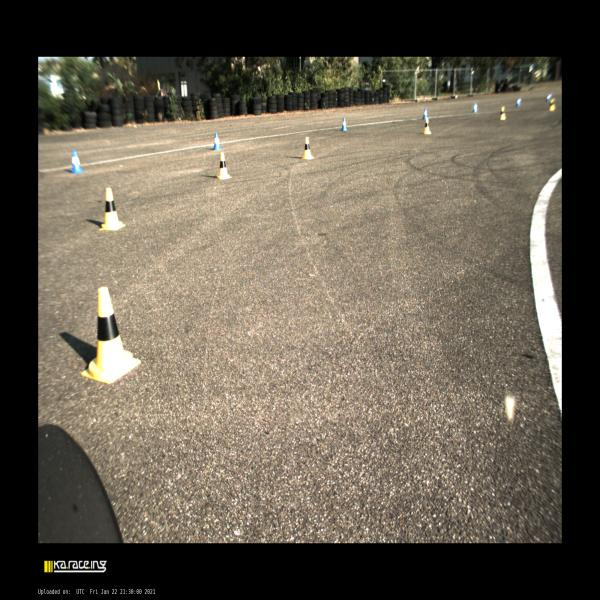blue_cone: (70, 150, 84, 174), (214, 133, 222, 150), (341, 118, 347, 130), (472, 103, 477, 112), (515, 98, 520, 107), (422, 108, 426, 119), (546, 94, 549, 102)
yellow_cone: (80, 287, 141, 384), (99, 188, 125, 230), (216, 152, 232, 179), (301, 137, 314, 159), (423, 118, 431, 134), (499, 107, 506, 120), (548, 101, 554, 111)
